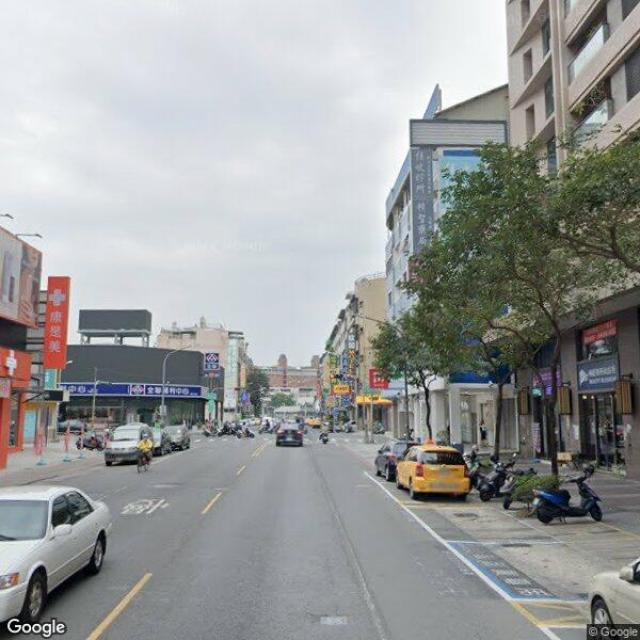Legalparking: (394, 440, 516, 500), (534, 466, 601, 523)
illegalparking: (0, 476, 110, 619), (103, 423, 155, 472), (275, 424, 302, 445)
